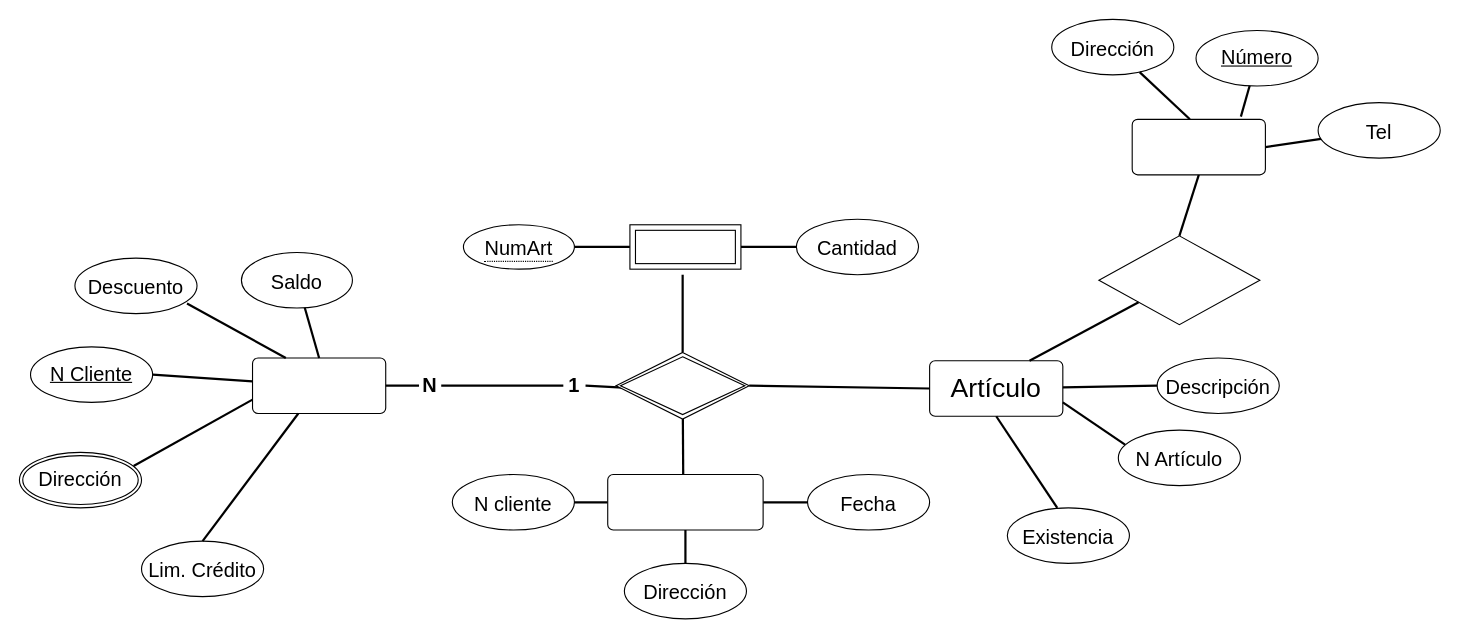
This 1460x638 diagram has some shape labels left out. The box of each missing label's shape, as (x1, y1, x2, y2) in pixels:
Cliente: (251, 357, 386, 413)
Distribuye: (1098, 235, 1260, 325)
Fábrica: (1131, 118, 1265, 175)
PCabecera: (607, 473, 763, 530)
PCuerpo: (629, 224, 741, 269)
Tiene: (615, 351, 749, 419)
